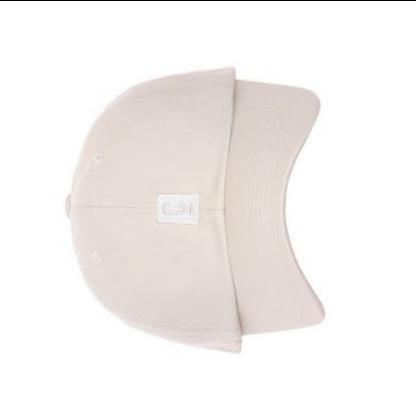cap: (60, 61, 329, 360)
